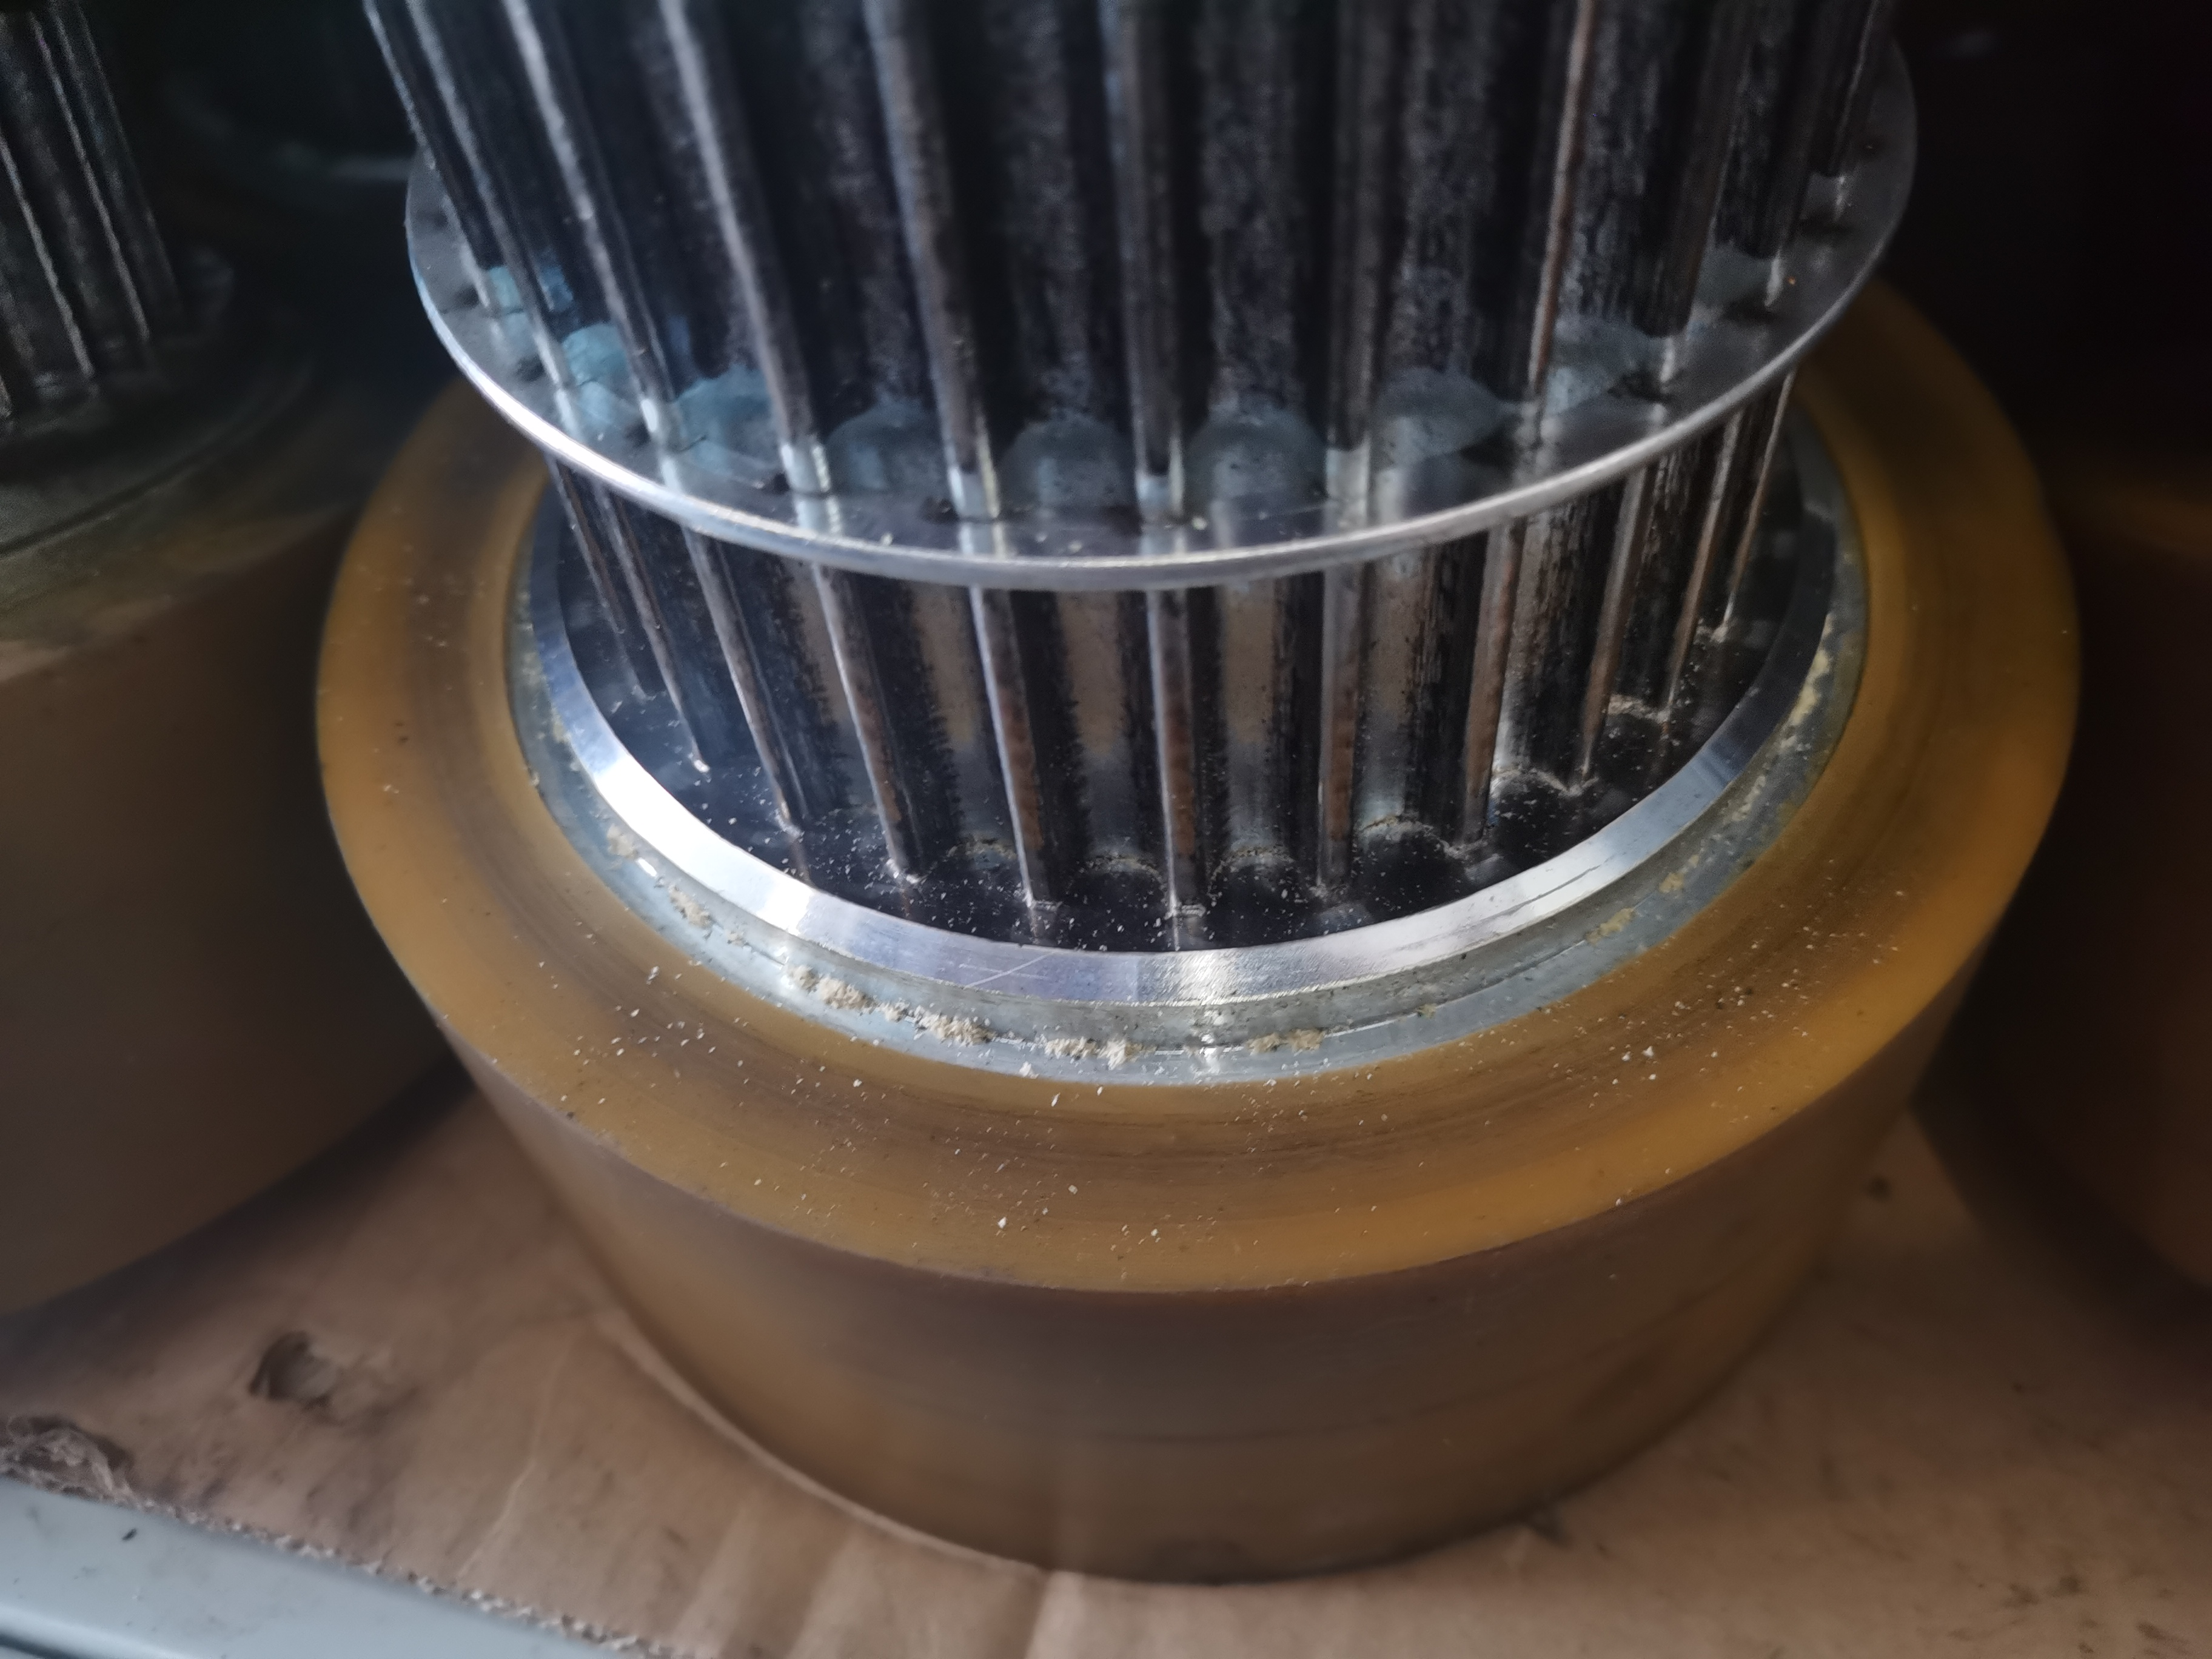bad_wheel: (730, 887, 1179, 1094), (1778, 575, 1871, 791), (1230, 1006, 1350, 1091)
